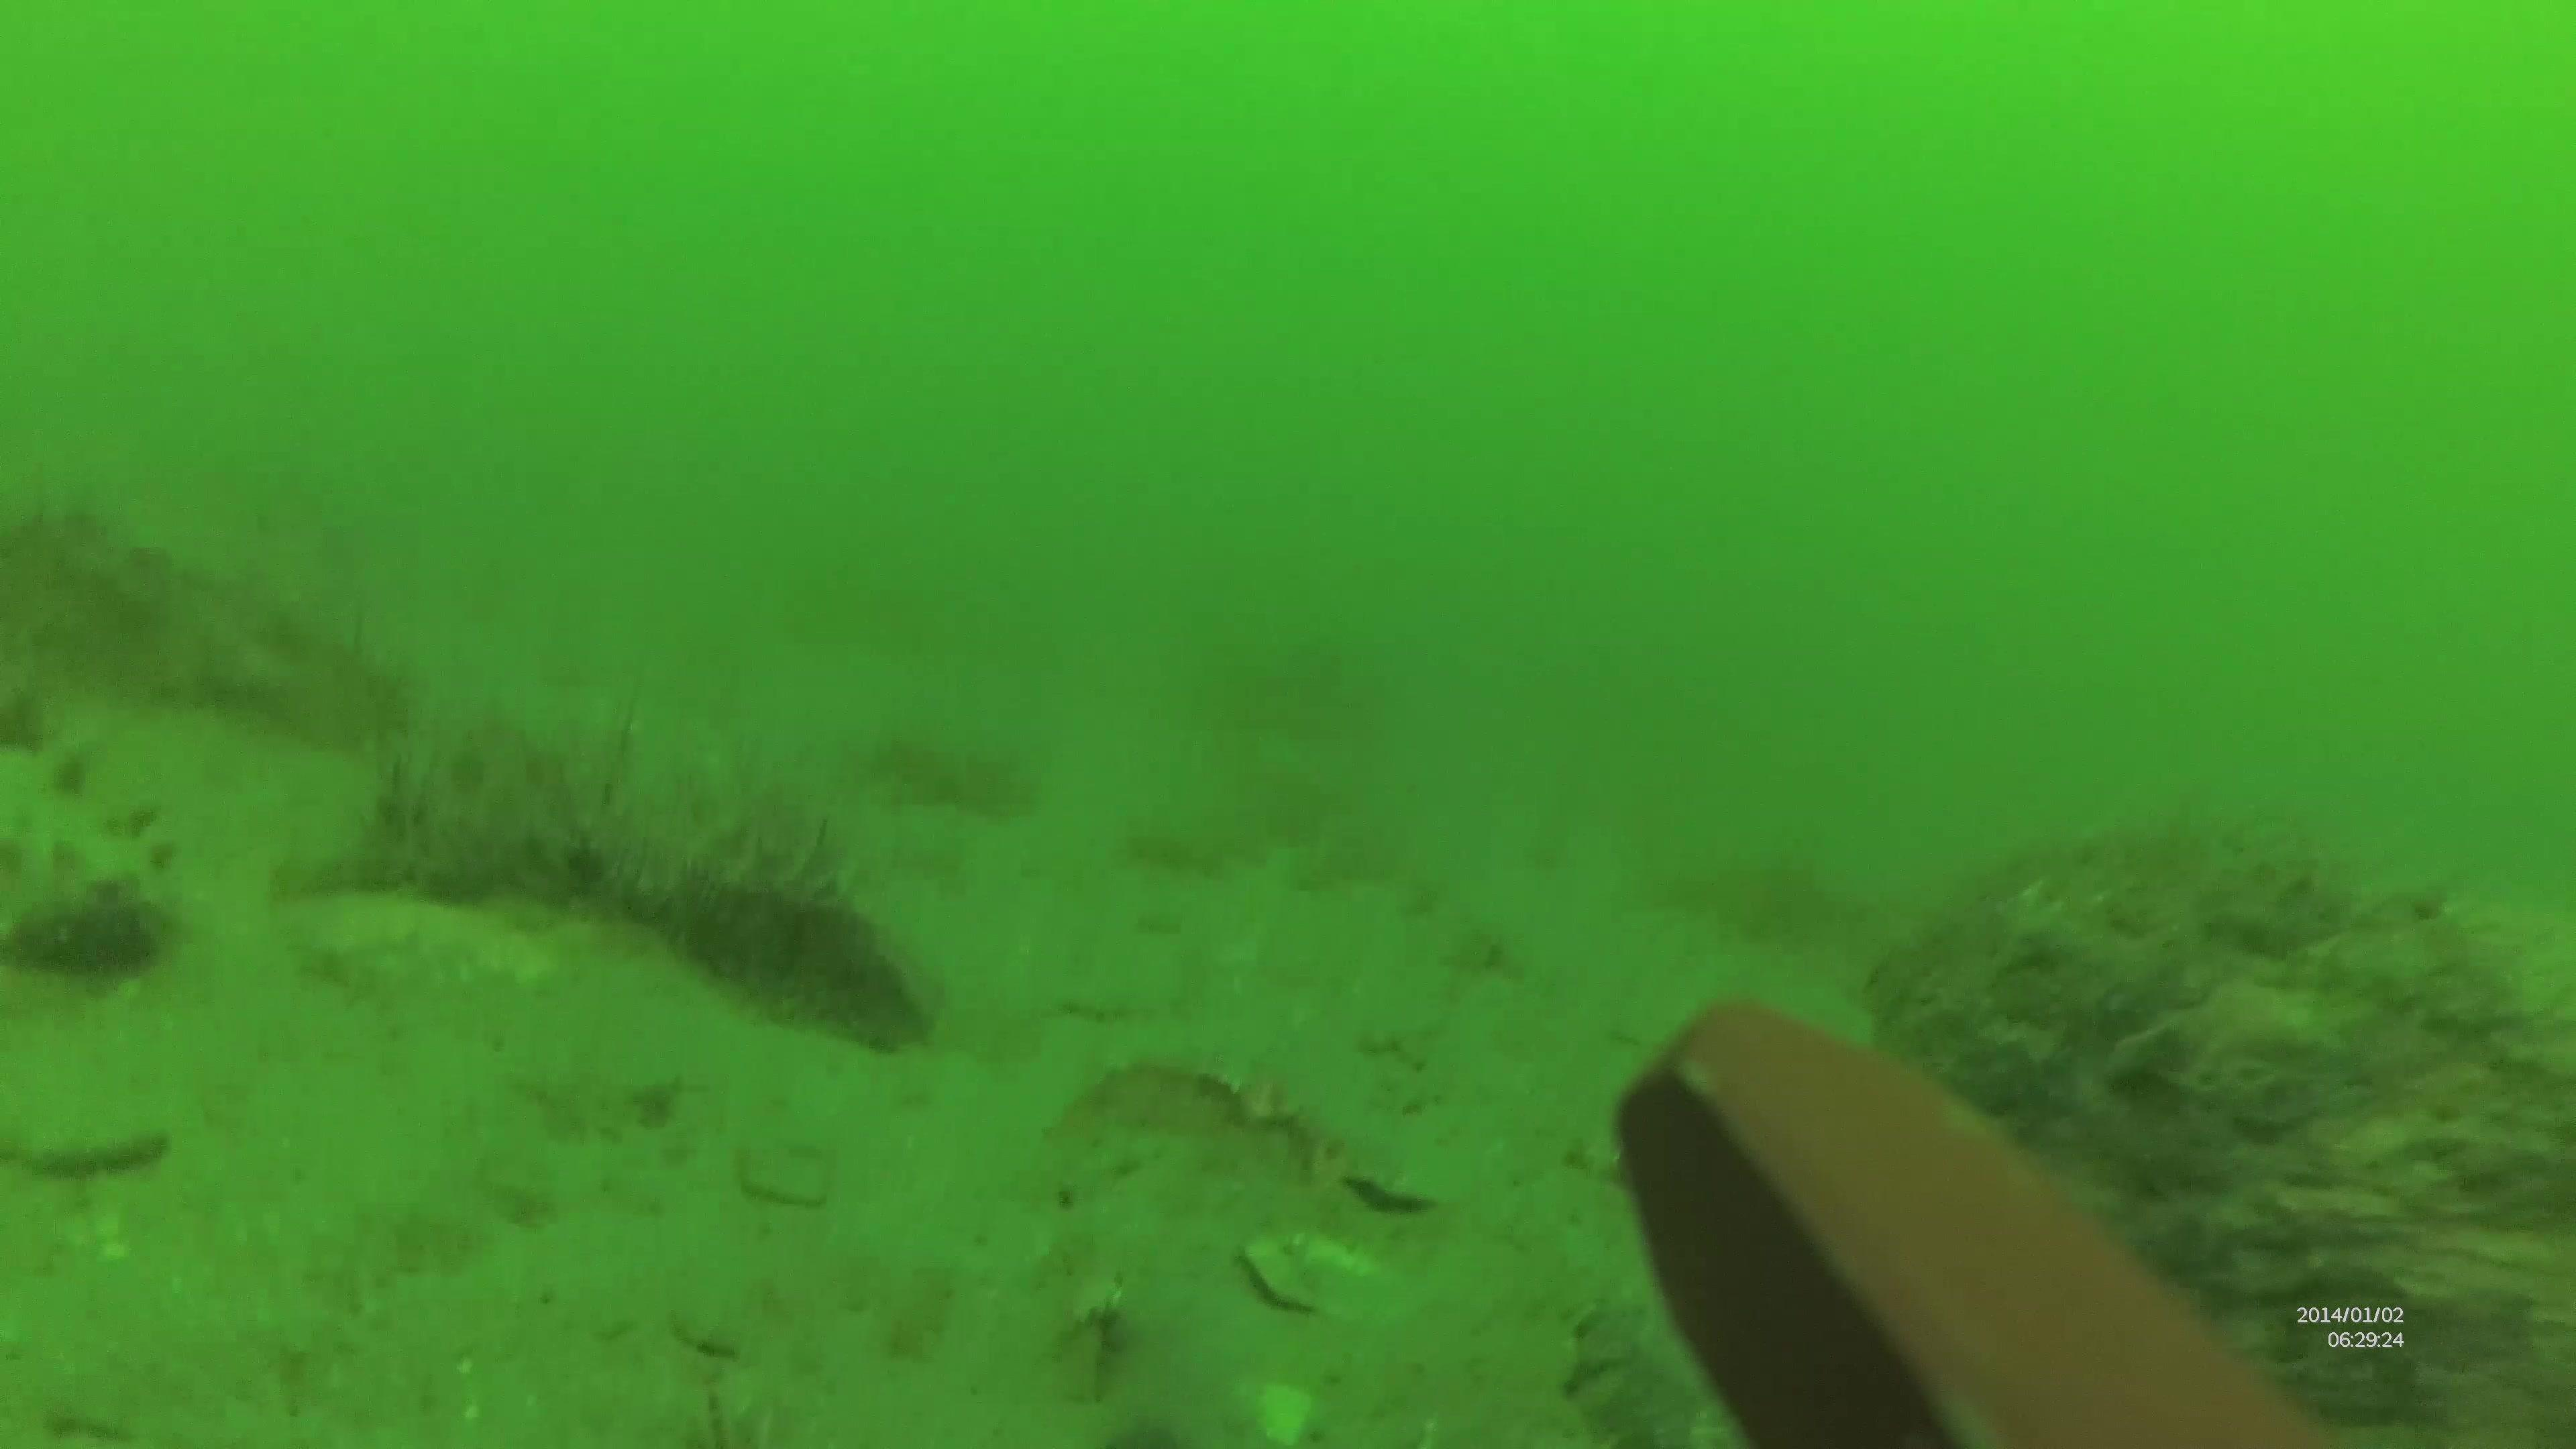holothurian: (0, 747, 189, 957)
